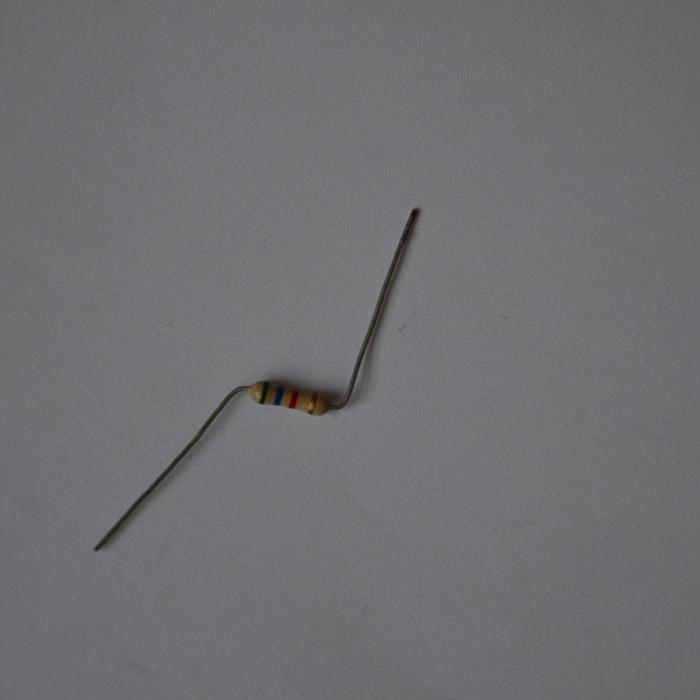resistor: (245, 380, 331, 415)
